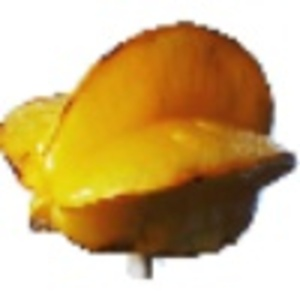carambola: (1, 18, 300, 278)
